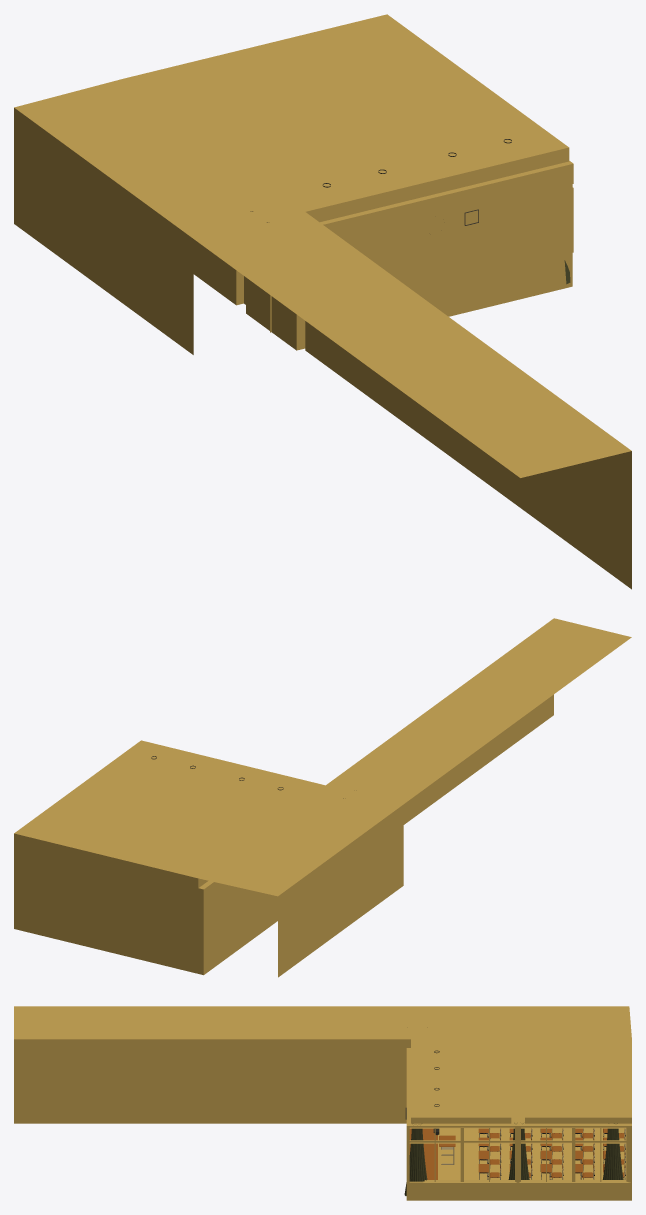
Rendered from ClassRoom.glb.
3 renders of one model, top to bottom at view 1: azimuth 30°, elevation 25°; view 2: azimuth 150°, elevation 25°; view 3: azimuth 270°, elevation 25°, orthographic. The views are drawn at different scales.
Visible parts, largest first — view 1: Object_12; view 2: Object_12; view 3: Object_12, Object_11, Object_24, Object_2, Object_17, Object_23.
Boxes of the visible parts, x1,y1,x2,y2 form: Object_12: (14,14,631,589); Object_12: (14,618,631,977); Object_12: (14,1006,631,1200); Object_11: (438,1128,626,1179); Object_24: (439,1128,625,1177); Object_2: (404,1123,623,1195); Object_17: (479,1128,625,1179); Object_23: (409,1128,437,1179).
Bounding box in the file's own units: 29.25 × 10.28 × 67.97.
18 materials, 8 textured.
